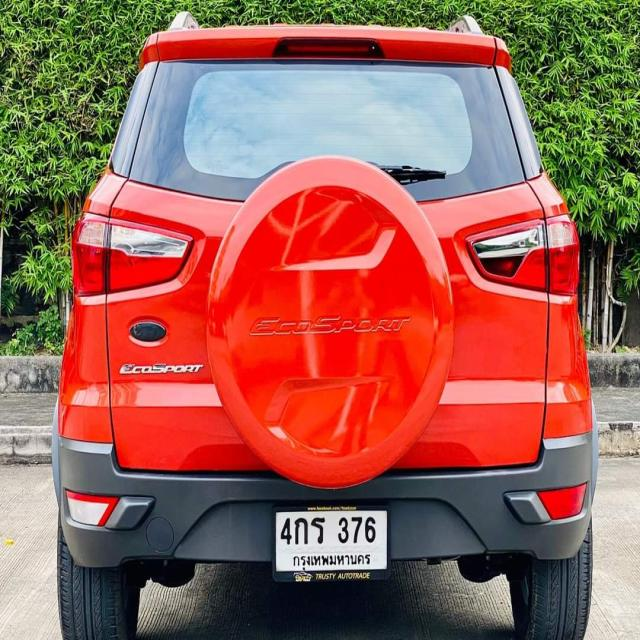license_plate: (270, 501, 391, 584)
